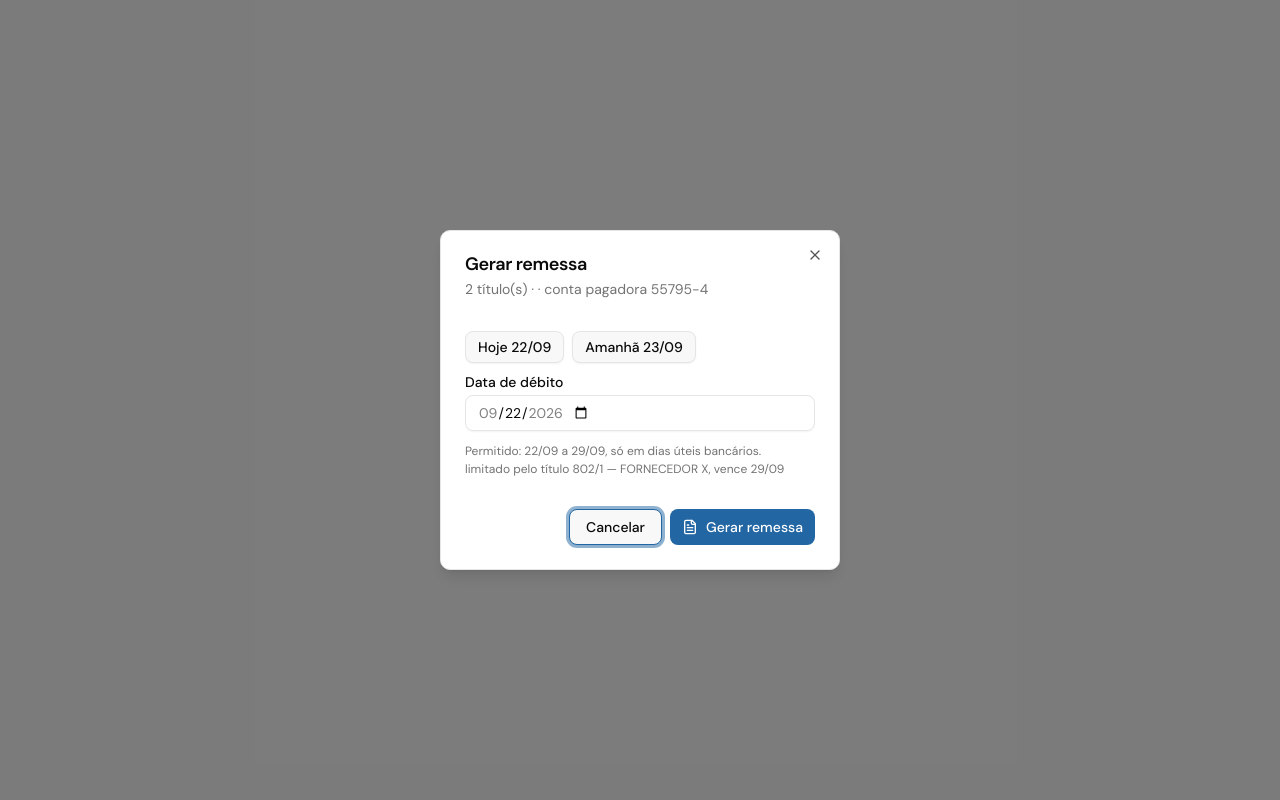
GerarRemessaDialog › bloqueia data fora da janela
Check: the text "Permitido: 22/09 a 29/09, só em dias úteis bancários." is shown, box [465,443,761,459]
Type "2026-09-30" into the date field labelled "Data de débito" at coordinates (640, 413), box [465,395,815,431]
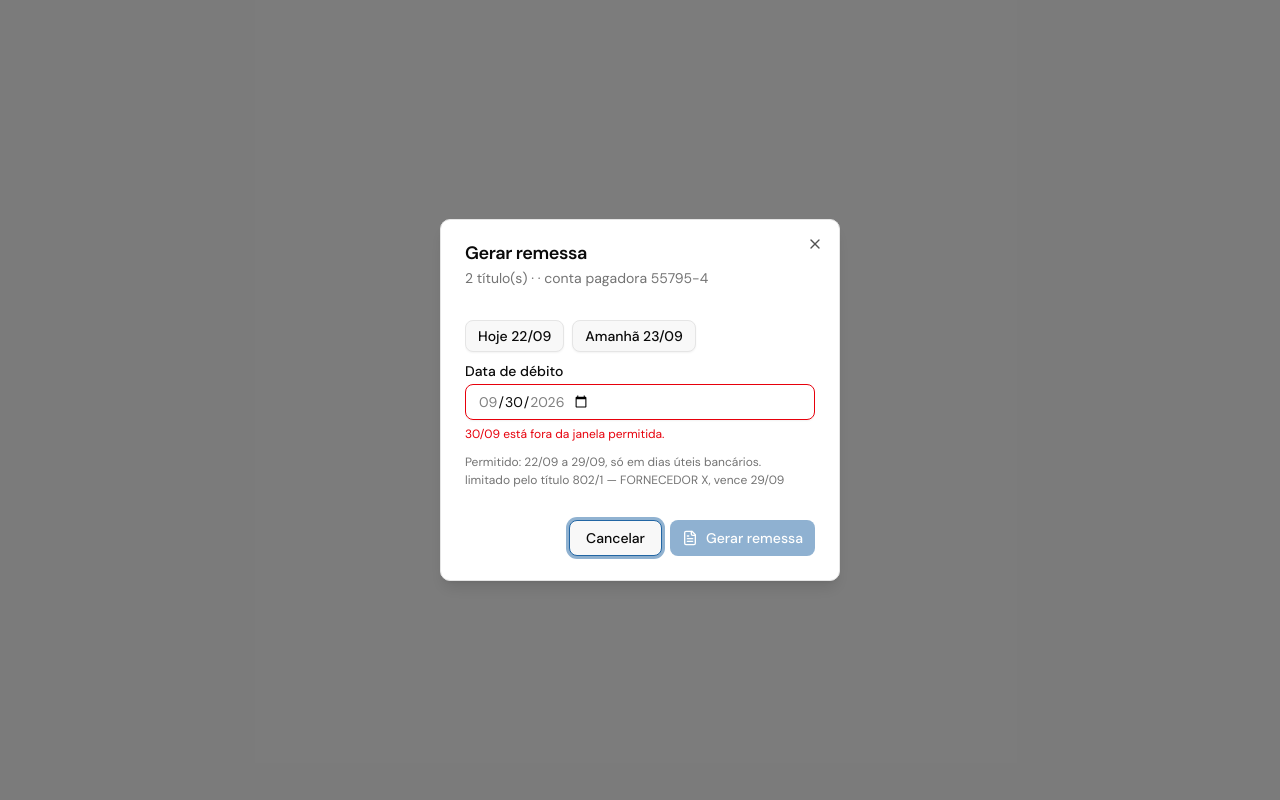
Check: the message shows "fora da janela", box [465,426,664,442]
Check: the button "Gerar remessa" is disabled, box [670,520,815,556]
